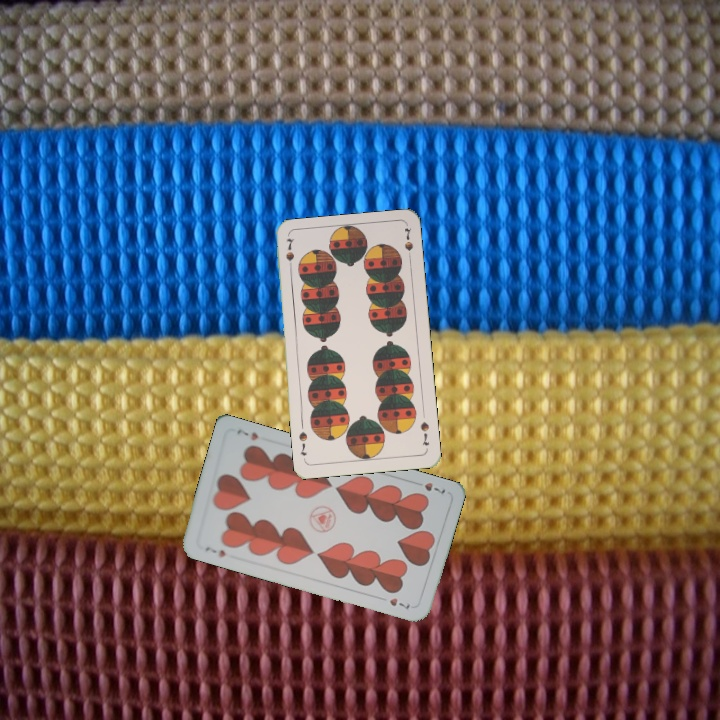H7: (420, 478, 448, 497), (201, 543, 228, 560)
S7: (282, 234, 297, 275), (416, 418, 432, 448)
